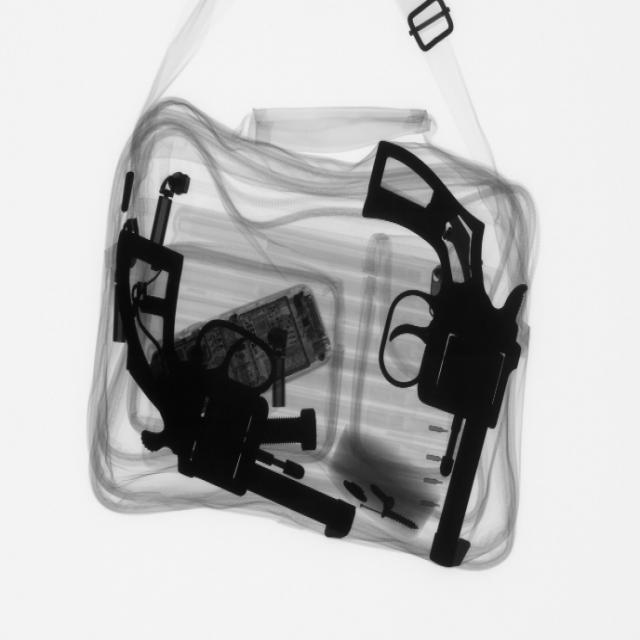GUN: (365, 122, 542, 582), (121, 231, 347, 547)
